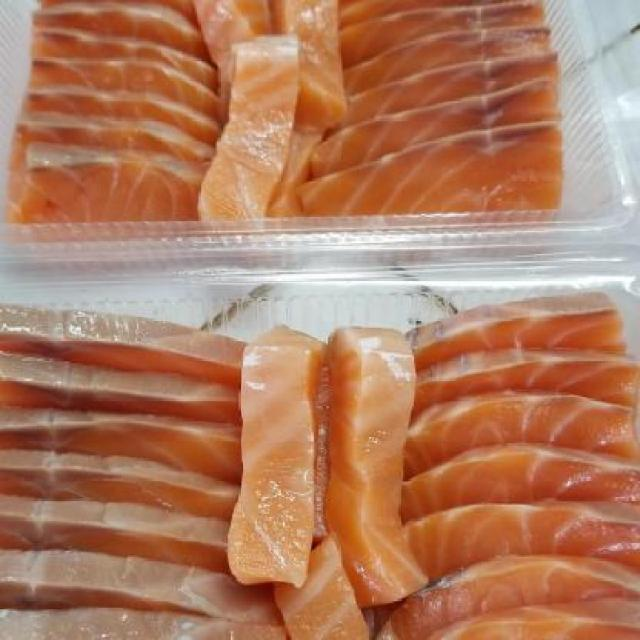salmon: (0, 281, 639, 634), (3, 2, 585, 225)
